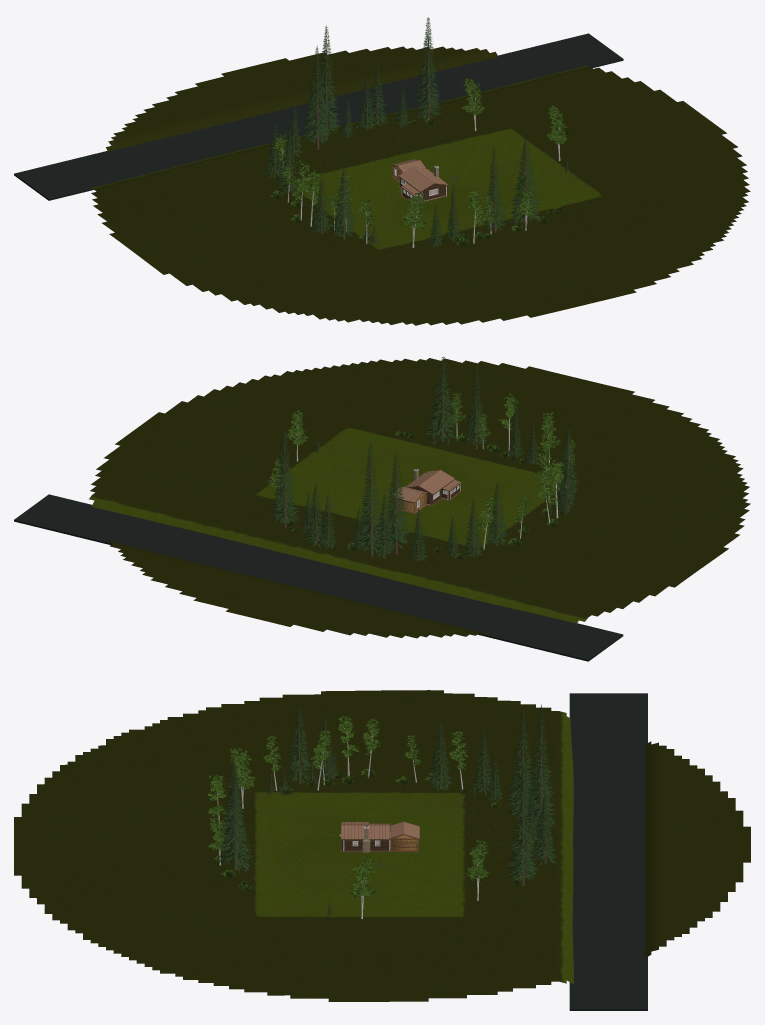
Rendered from plan_one_story_328_classic_basic.glb.
The picture shows the model from 3 angles, top to bottom: view 1: azimuth 30°, elevation 25°; view 2: azimuth 150°, elevation 25°; view 3: azimuth 270°, elevation 25°; orthographic projection. The views are drawn at different scales.
Visible parts, largest first — view 1: Ground, River, P_Fir0_inst.073, P_Fir1_inst.067, P_Fir0_inst.075, P_Spruce1_inst.042, P_Spruce0_inst.046, P_Fir0_inst.042, P_Spruce2_inst.079, P_Birch1_inst.040, EX_Roof_metal, P_Spruce3_inst.061 (+5 smaller); view 2: Ground, River, P_Fir0_inst.075, P_Fir0_inst.073, P_Spruce1_inst.042, P_Fir1_inst.067, P_Fir0_inst.042, P_Spruce0_inst.073, P_Spruce3_inst.061, P_Spruce0_inst.046, P_Spruce2_inst.079, P_Spruce2_inst.072 (+6 smaller); view 3: Ground, River, P_Fir0_inst.075, P_Fir0_inst.073, P_Spruce1_inst.042, P_Fir1_inst.067, P_Spruce0_inst.046, P_Spruce3_inst.061, P_Spruce2_inst.079, GrassTufts, EX_Roof_metal, P_Birch1_inst.040 (+5 smaller).
Part boxes in pixels (left/top/right/bottom): Ground: left=90, top=46, right=750, bottom=325; River: left=14, top=33, right=623, bottom=200; P_Fir0_inst.073: left=414, top=17, right=442, bottom=120; P_Fir1_inst.067: left=302, top=45, right=331, bottom=149; P_Fir0_inst.075: left=312, top=25, right=342, bottom=139; P_Spruce1_inst.042: left=509, top=137, right=541, bottom=224; P_Spruce0_inst.046: left=332, top=167, right=355, bottom=239; P_Fir0_inst.042: left=482, top=147, right=506, bottom=232; P_Spruce2_inst.079: left=368, top=63, right=388, bottom=126; P_Birch1_inst.040: left=403, top=192, right=426, bottom=247; EX_Roof_metal: left=399, top=167, right=447, bottom=191; P_Spruce3_inst.061: left=277, top=130, right=298, bottom=194; Ground: left=89, top=358, right=750, bottom=638; River: left=14, top=494, right=623, bottom=661; P_Fir0_inst.075: left=355, top=442, right=383, bottom=556; P_Fir0_inst.073: left=269, top=421, right=299, bottom=527; P_Spruce1_inst.042: left=425, top=357, right=458, bottom=441; P_Fir1_inst.067: left=383, top=453, right=410, bottom=554; P_Fir0_inst.042: left=465, top=363, right=487, bottom=449; P_Spruce0_inst.073: left=374, top=494, right=394, bottom=559; P_Spruce3_inst.061: left=486, top=483, right=508, bottom=547; P_Spruce0_inst.046: left=557, top=426, right=579, bottom=498; P_Spruce2_inst.079: left=304, top=483, right=325, bottom=548; P_Spruce2_inst.072: left=463, top=500, right=483, bottom=558; Ground: left=14, top=690, right=750, bottom=1001; River: left=569, top=693, right=647, bottom=1010; P_Fir0_inst.075: left=525, top=704, right=555, bottom=832; P_Fir0_inst.073: left=506, top=765, right=539, bottom=885; P_Spruce1_inst.042: left=216, top=773, right=253, bottom=872; P_Fir1_inst.067: left=506, top=707, right=533, bottom=824; P_Spruce0_inst.046: left=286, top=703, right=311, bottom=784; P_Spruce3_inst.061: left=427, top=719, right=453, bottom=792; P_Spruce2_inst.079: left=533, top=795, right=556, bottom=867; GrassTufts: left=250, top=788, right=511, bottom=903; EX_Roof_metal: left=341, top=823, right=389, bottom=839; P_Birch1_inst.040: left=228, top=747, right=255, bottom=808.
Bounding box in the file's own units: 154 × 32.12 × 152.
32 materials, 14 textured.
